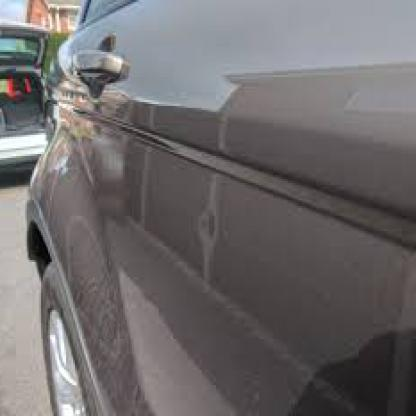dent: (182, 206, 229, 249)
